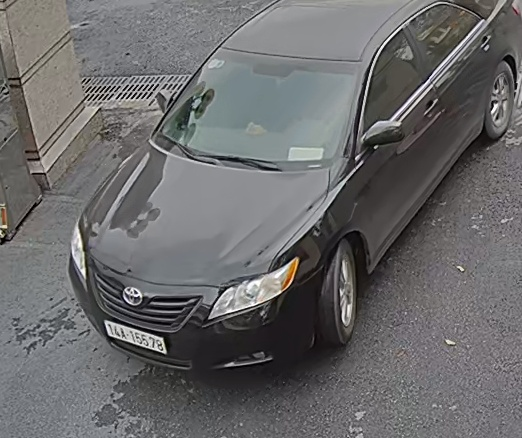vehicle plate: (102, 316, 169, 355)
